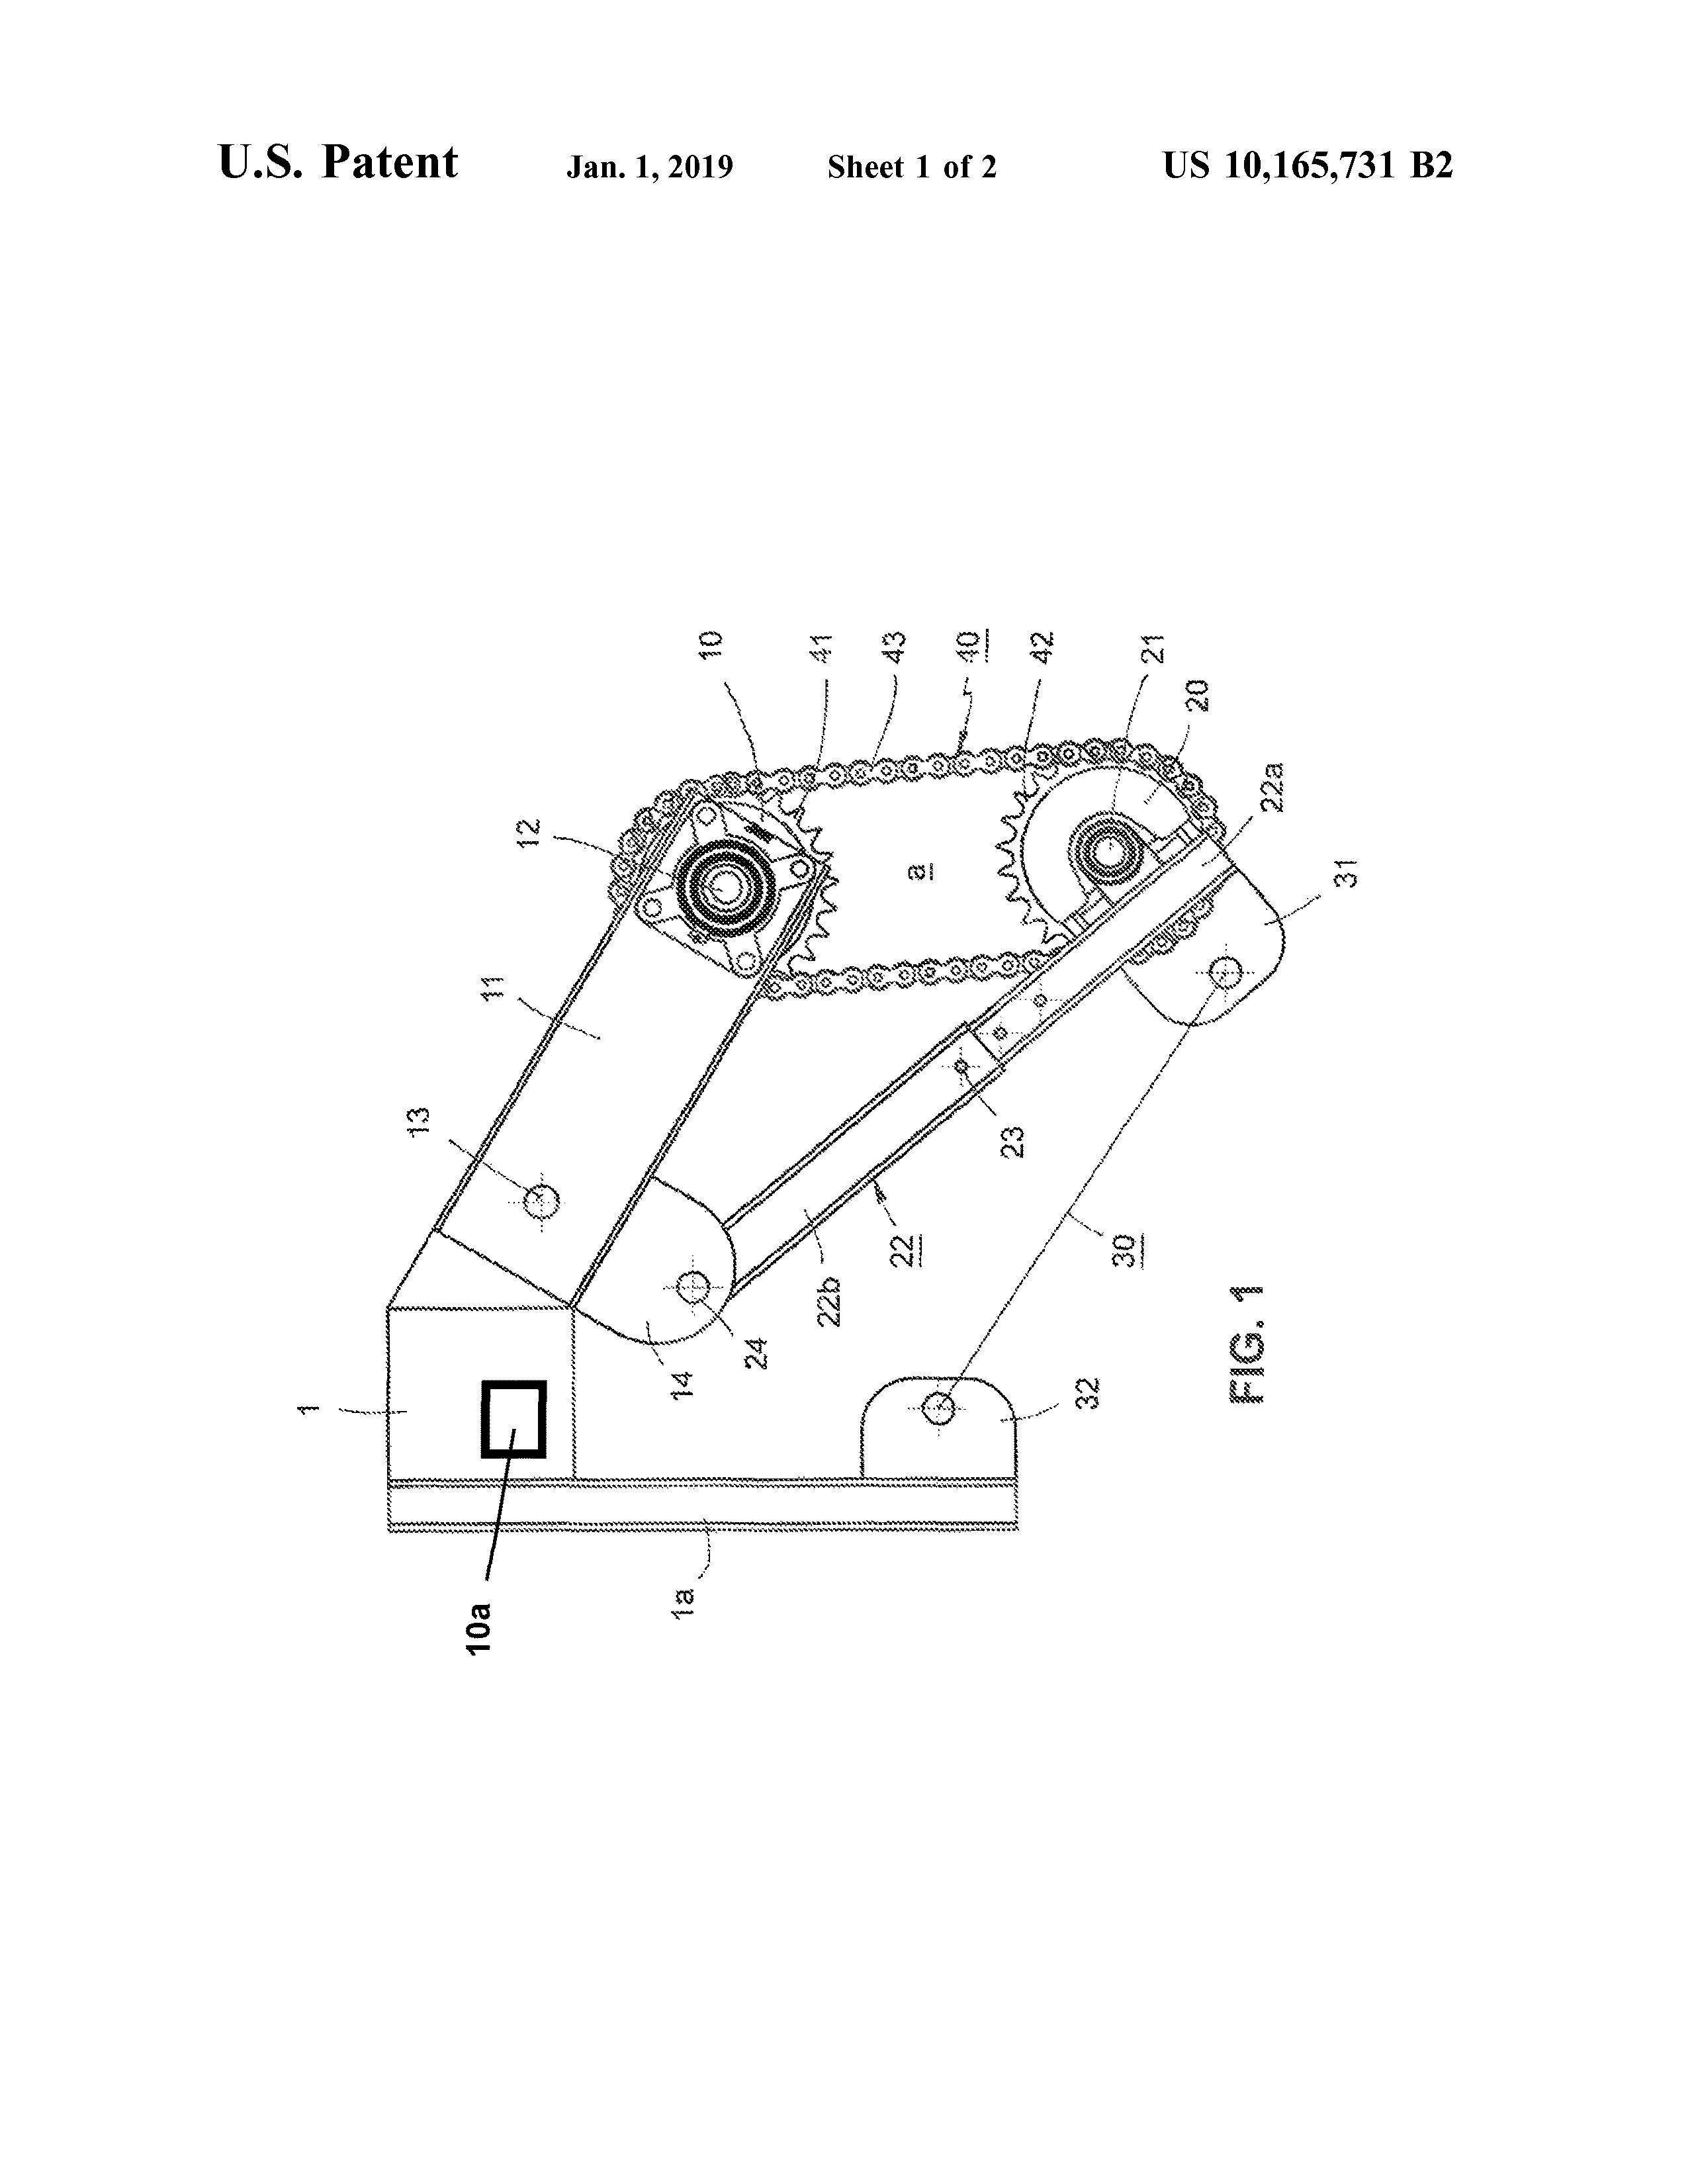patent image: (287, 544, 1378, 1715)
